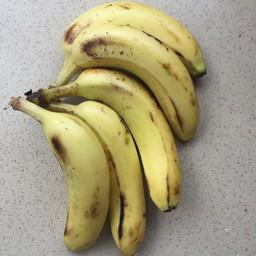Banana Ripe: (26, 26, 188, 218), (7, 68, 160, 254), (46, 0, 237, 143), (3, 100, 118, 256)
